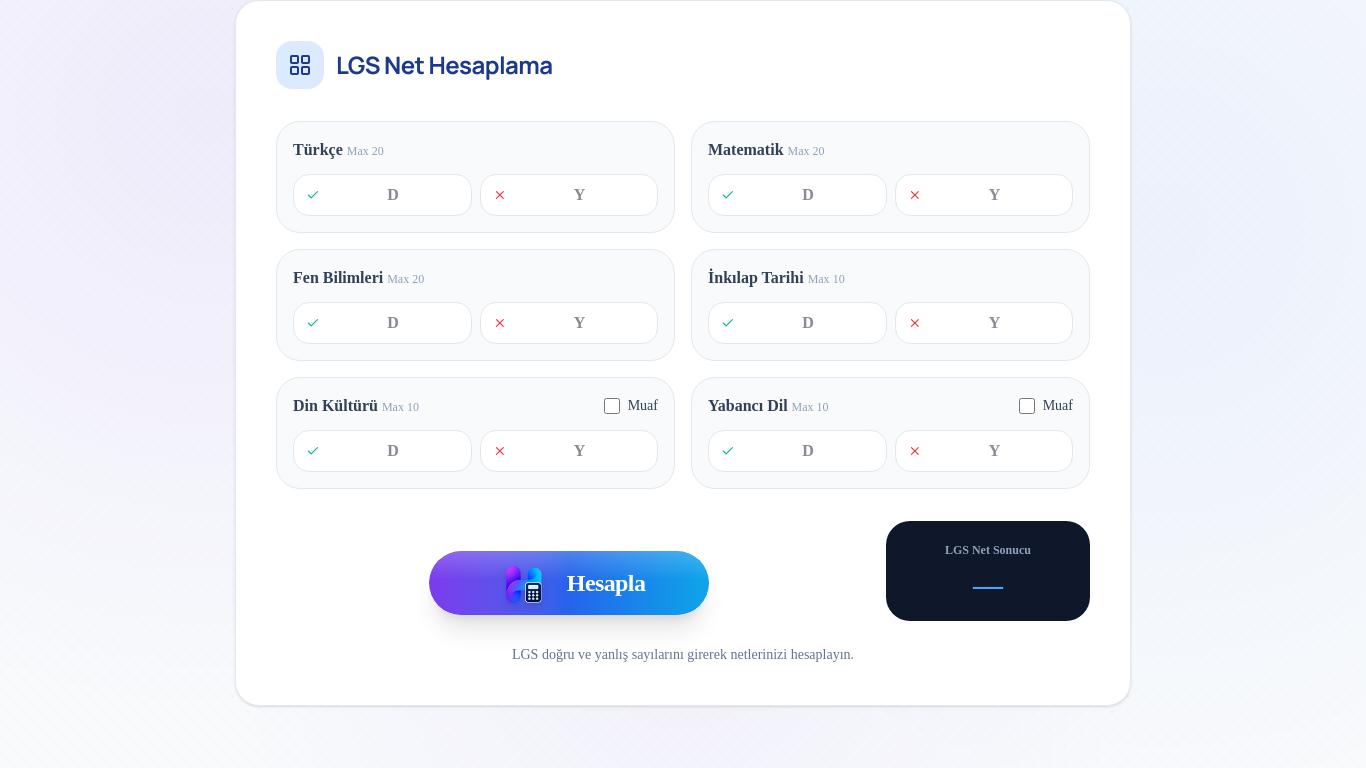
LgsForm Component › submits correctly
Click the button "Hesapla" at (569, 583), box 429,551 -> 709,615
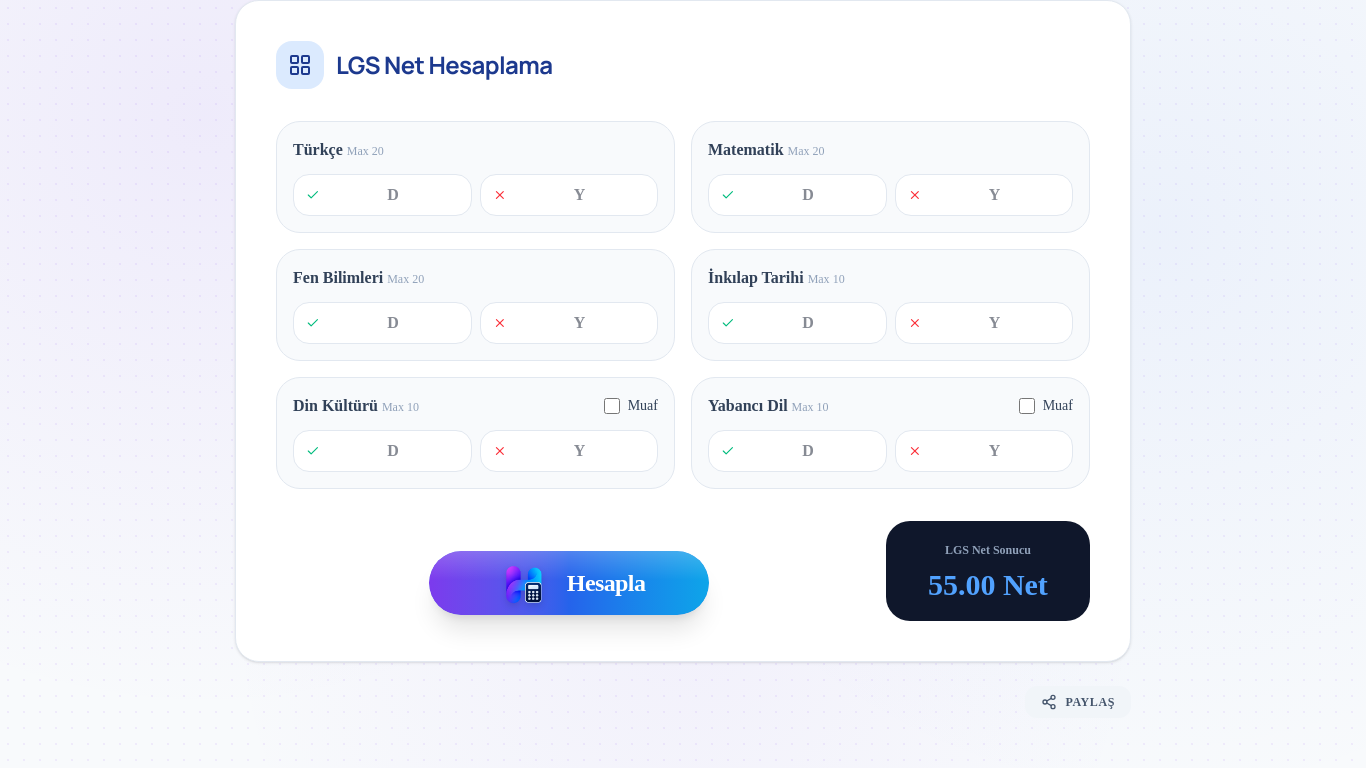
Now the text "55.00 Net" is shown, box 928,568 -> 1048,601
